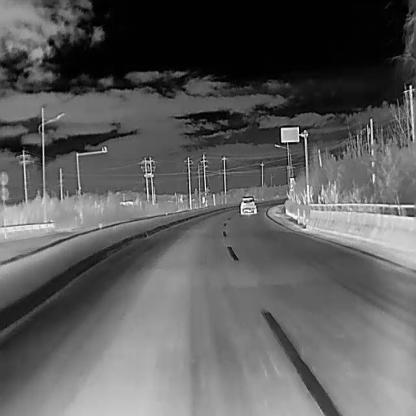car: (239, 195, 257, 214)
